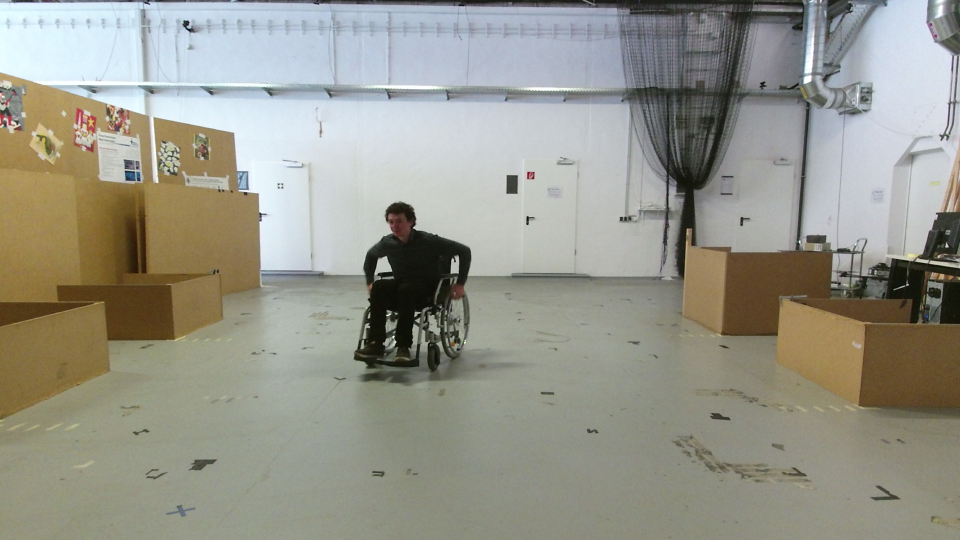wheelchair: (353, 196, 479, 369)
